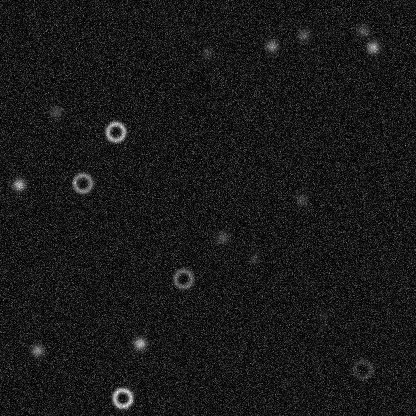Ring: (350, 356, 374, 380), (110, 385, 134, 409), (70, 171, 94, 195), (171, 266, 195, 290), (103, 119, 127, 143)
Spot: (198, 45, 214, 61), (246, 250, 262, 266), (354, 22, 370, 38), (10, 176, 26, 192), (364, 39, 380, 55), (295, 27, 311, 43), (29, 342, 45, 358), (214, 229, 230, 245), (263, 37, 279, 53), (314, 308, 330, 324), (293, 191, 309, 207), (131, 335, 147, 351), (47, 103, 63, 119)
